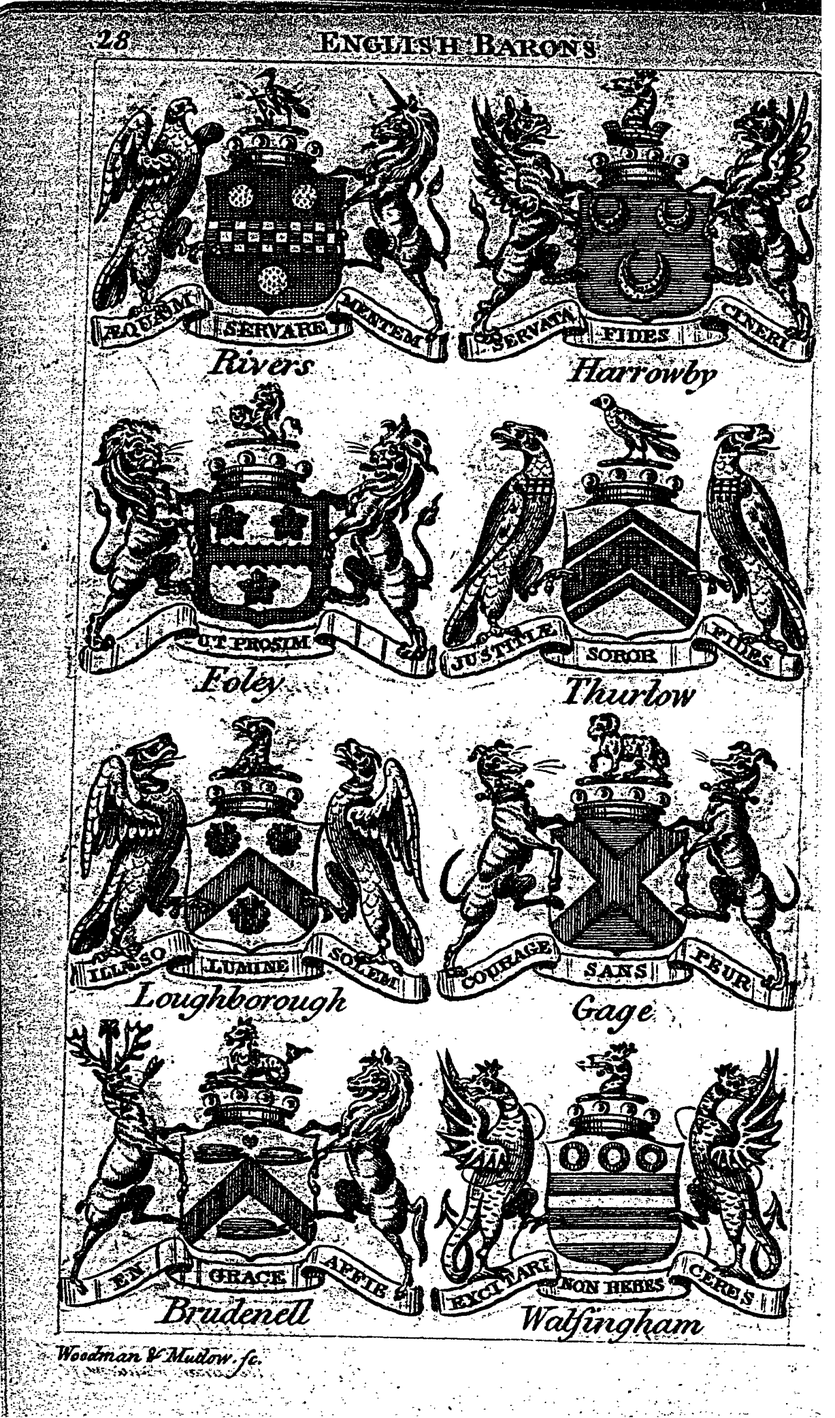coat_of_arms: (439, 702, 802, 1030), (424, 1028, 803, 1340), (87, 702, 437, 1032), (97, 69, 456, 386), (60, 1024, 423, 1337), (463, 73, 814, 396), (456, 405, 809, 706), (100, 392, 447, 696)
